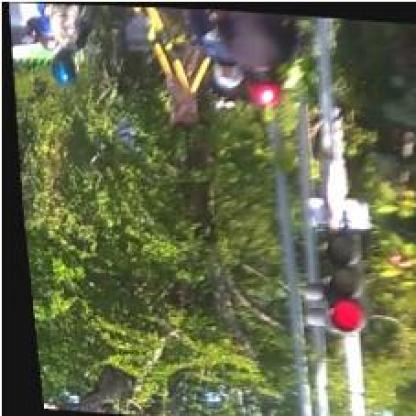red: (319, 231, 366, 330)
